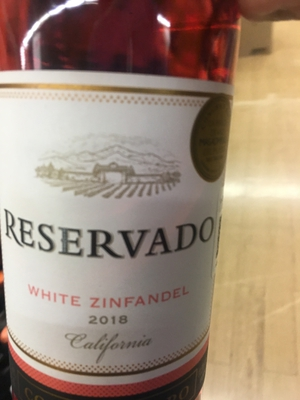reservado white zinfandel: (2, 14, 241, 400)
